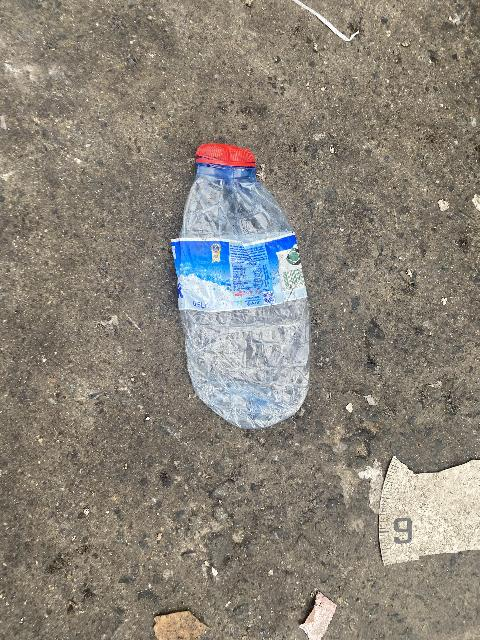Kagit: (371, 446, 480, 567), (302, 589, 341, 640), (152, 611, 210, 640)
Plastik: (171, 140, 314, 432), (192, 141, 263, 175)
